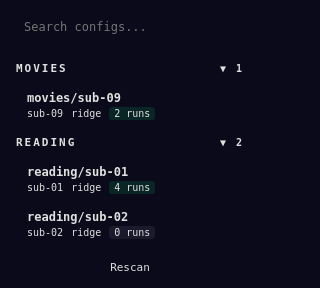
Scenario: <ConfigBrowser /> › filters configs by search
The image size is (320, 288).
Type "movies" into the field with placeholder "Search configs...".
click(130, 27); type("movies")  # box [12,12,248,42]
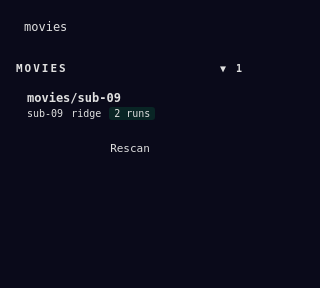
Check: the text "movies" is shown, box [16,62,68,75]
Check: the text "reading" is gone
